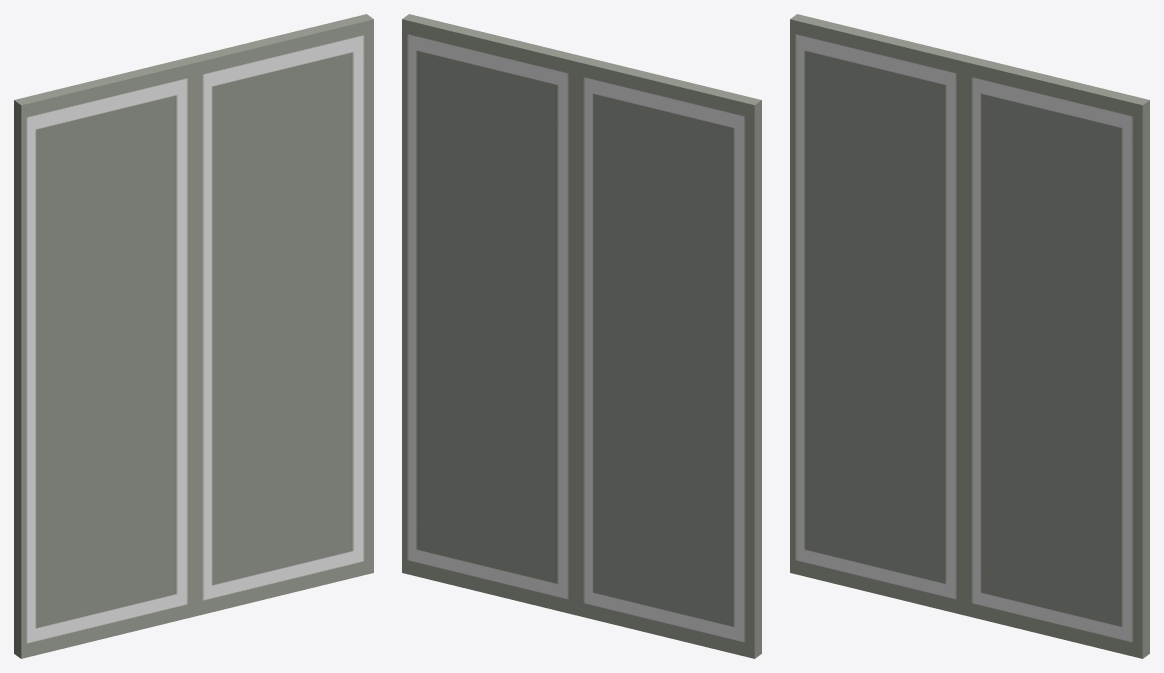
File: Wall_Green_2m.fbx
The picture shows the model from 3 angles, left to right: view 1: azimuth 30°, elevation 25°; view 2: azimuth 150°, elevation 25°; view 3: azimuth 330°, elevation 25°; orthographic projection.
Parts seen in each view (by area): view 1: Wall_Green_2m; view 2: Wall_Green_2m; view 3: Wall_Green_2m.
Boxes of the visible parts, x1=… form: Wall_Green_2m: x1=14, y1=14, x2=373, y2=658; Wall_Green_2m: x1=402, y1=14, x2=761, y2=658; Wall_Green_2m: x1=790, y1=14, x2=1149, y2=658.
Bounding box in the file's own units: 200 × 300 × 7.
